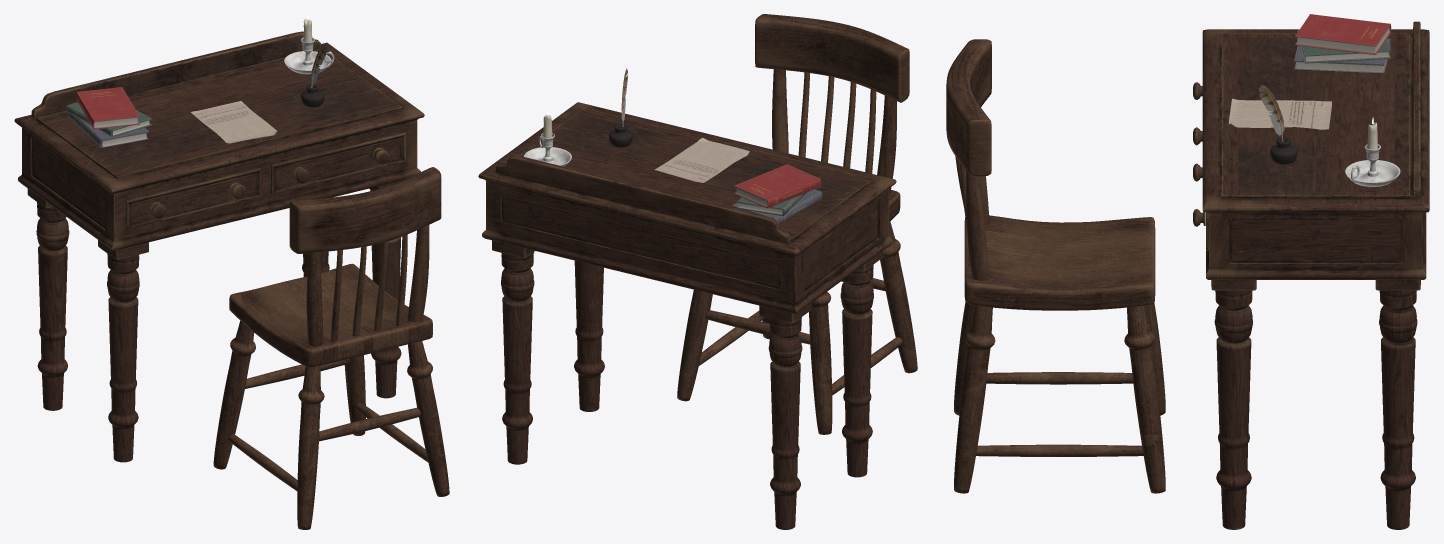
The model's file is WritingDeskScene2.fbx.
3 views of the same model, side by side, from view 1: azimuth 30°, elevation 25°; view 2: azimuth 150°, elevation 25°; view 3: azimuth 270°, elevation 25° (orthographic). The views are drawn at different scales.
Visible parts, largest first — view 1: WritingTable, GoodChair, WritingTableLegs, Parchment, Book_Metamorphasis, CandleHolder, Book_TheTrial, Book_Amerika; view 2: WritingTable, GoodChair, WritingTableLegs, Parchment, Book_Metamorphasis, CandleHolder, Book_TheTrial, Book_Amerika; view 3: WritingTable, GoodChair, WritingTableLegs, Book_Metamorphasis, Parchment, CandleHolder, Book_TheTrial, Book_Amerika, Quill, Inkwell.
Part boxes in pixels (x1,y1,x2,y2): WritingTable: [14, 31, 424, 259]; GoodChair: [213, 167, 449, 529]; WritingTableLegs: [36, 190, 401, 462]; Parchment: [191, 101, 277, 143]; Book_Metamorphasis: [75, 87, 139, 129]; CandleHolder: [284, 37, 334, 74]; Book_TheTrial: [68, 113, 148, 147]; Book_Amerika: [66, 102, 151, 137]; WritingTable: [478, 102, 896, 323]; GoodChair: [677, 14, 917, 434]; WritingTableLegs: [501, 252, 873, 529]; Parchment: [654, 137, 749, 182]; Book_Metamorphasis: [734, 164, 821, 208]; CandleHolder: [524, 133, 571, 166]; Book_TheTrial: [732, 189, 822, 224]; Book_Amerika: [737, 192, 806, 215]; WritingTable: [1193, 21, 1429, 290]; GoodChair: [946, 39, 1165, 493]; WritingTableLegs: [1214, 290, 1417, 529]; Book_Metamorphasis: [1295, 14, 1391, 54]; Parchment: [1228, 98, 1331, 129]; CandleHolder: [1345, 144, 1400, 186]; Book_TheTrial: [1294, 38, 1390, 72]; Book_Amerika: [1297, 30, 1390, 63]; Quill: [1259, 85, 1284, 141]; Inkwell: [1270, 137, 1297, 164].
Bounding box in the file's own units: 732 × 794 × 840.
